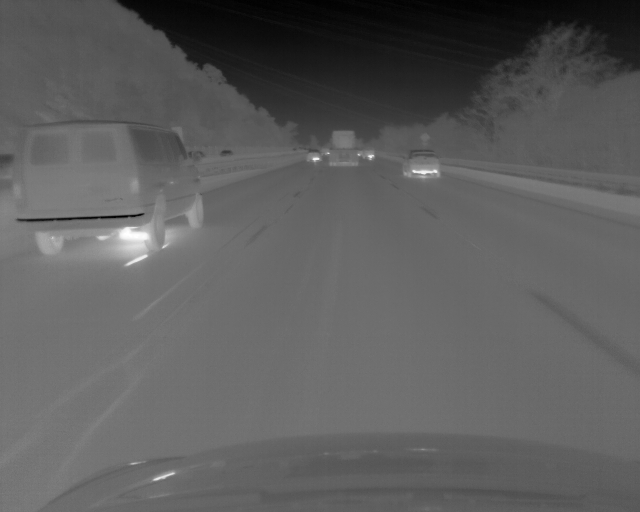car: (17, 122, 205, 255), (402, 149, 441, 178), (329, 130, 358, 167), (361, 145, 375, 160), (306, 150, 321, 162), (220, 150, 232, 156)
